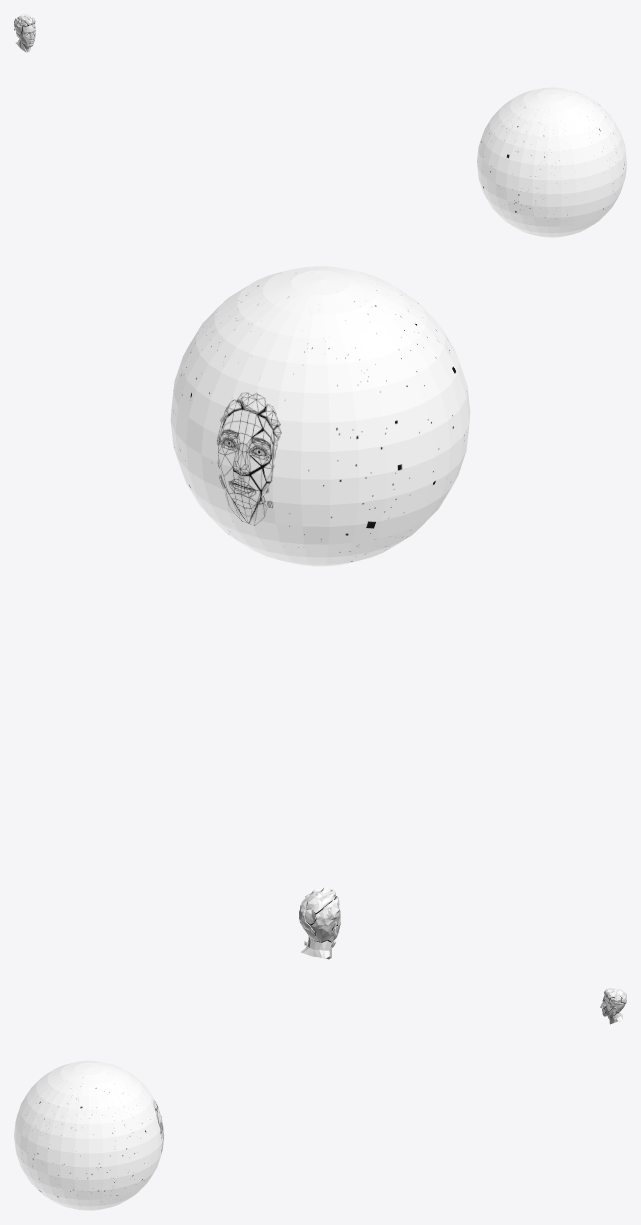
Rendered from CameraPath.glb.
The picture shows the model from 3 angles, top to bottom: view 1: azimuth 30°, elevation 25°; view 2: azimuth 150°, elevation 25°; view 3: azimuth 270°, elevation 25°; orthographic projection. The views are drawn at different scales.
Visible parts, largest first — view 1: BACK, FRNT, head; view 2: BACK, FRNT, head; view 3: FRNT, BACK, head.
Part boxes in pixels (bbox=[...]): BACK: bbox=[477, 89, 589, 237]; FRNT: bbox=[538, 87, 626, 234]; head: bbox=[14, 14, 35, 52]; BACK: bbox=[245, 269, 470, 566]; FRNT: bbox=[170, 266, 348, 559]; head: bbox=[298, 887, 340, 959]; FRNT: bbox=[14, 1067, 164, 1210]; BACK: bbox=[16, 1060, 162, 1120]; head: bbox=[600, 988, 626, 1024].
Size of the model in its own units: 5.19 by 2 by 8.16.
6 materials, 2 textured.
